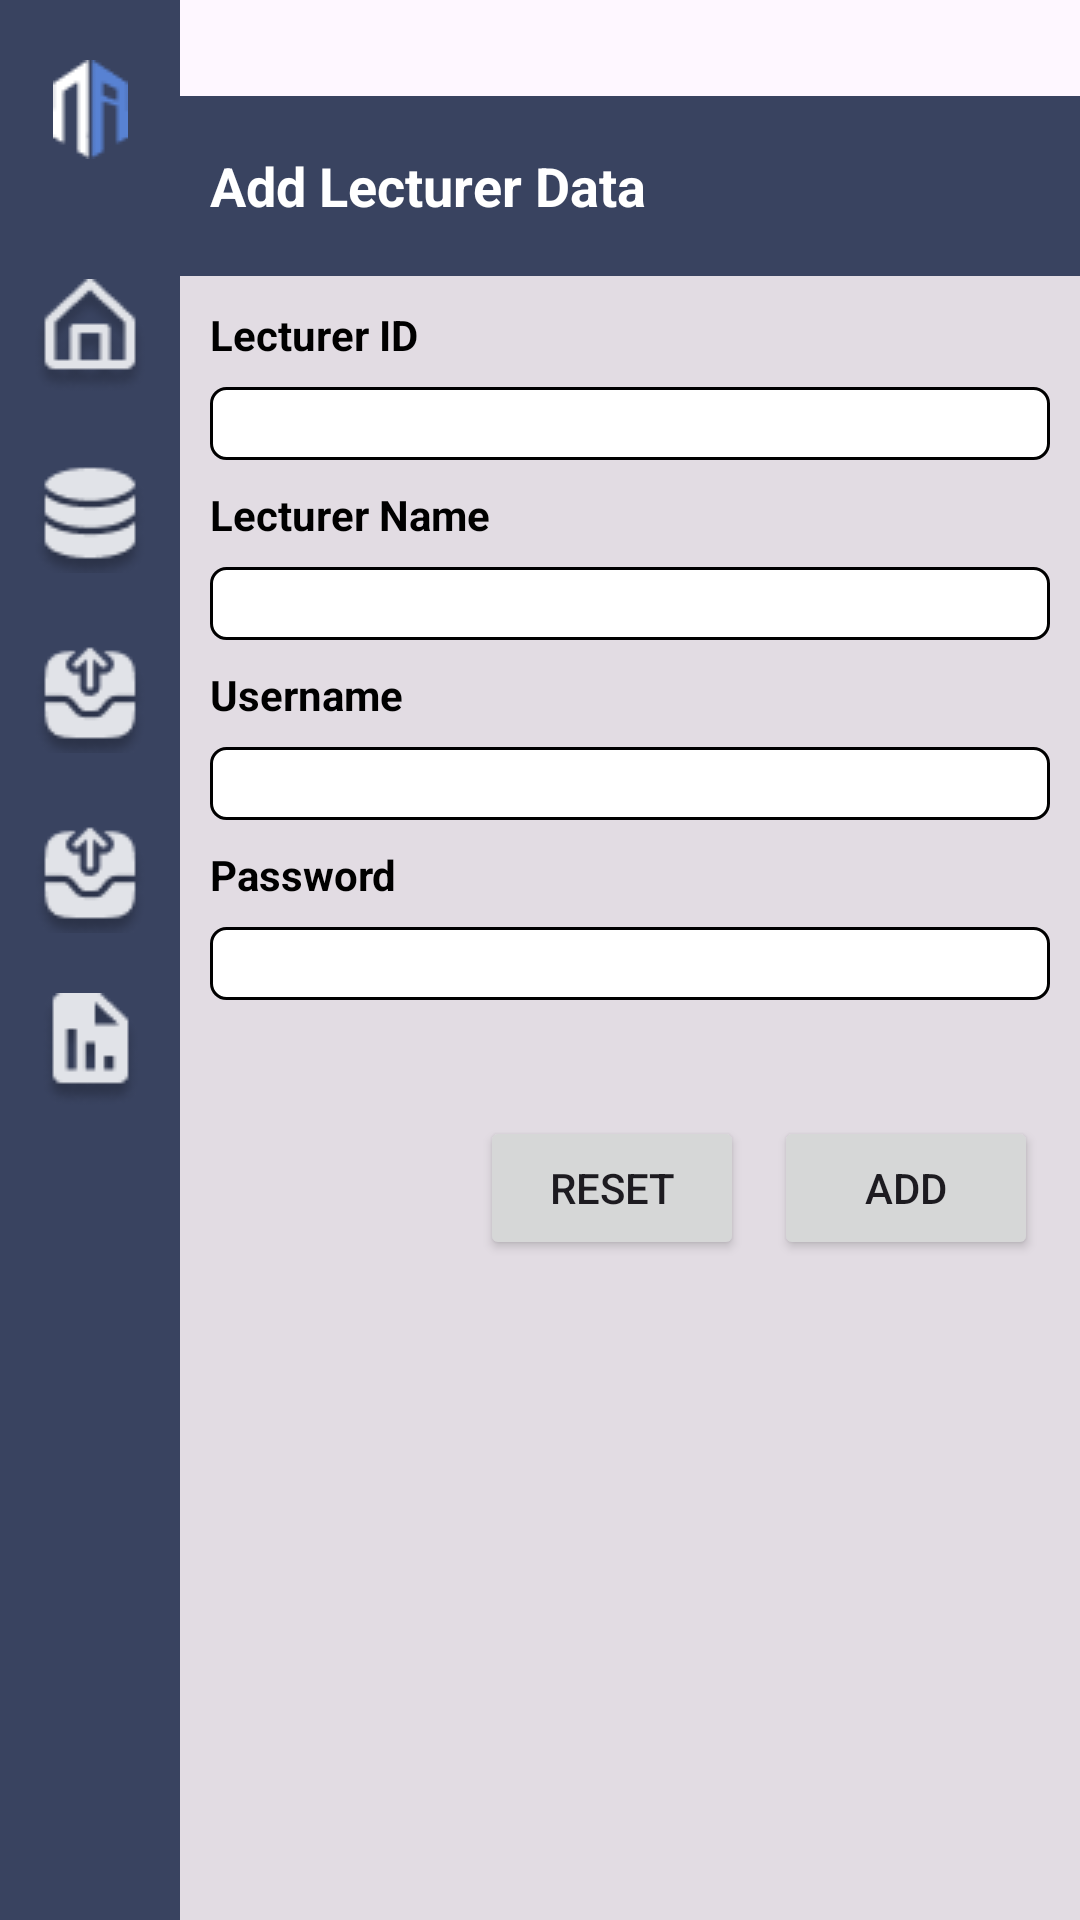

Icons on this 1080w x 1920h Android screen, each with its box as (x1, y1, x2, y2):
home: (44, 279, 136, 370)
inboxout: (44, 647, 136, 740), (44, 827, 136, 920)
laporan: (52, 993, 129, 1084)
masterdata: (44, 467, 136, 559)
